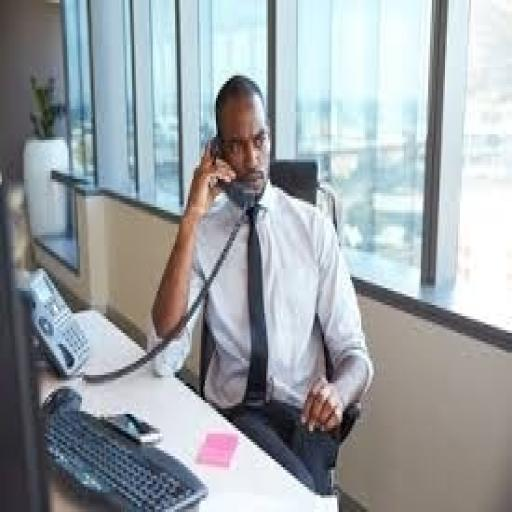calling: (147, 70, 374, 492)
